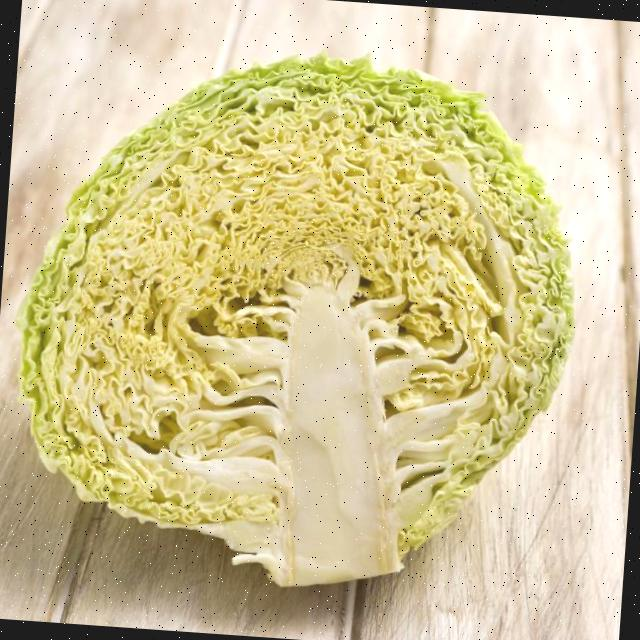cabbage: (0, 26, 607, 611)
